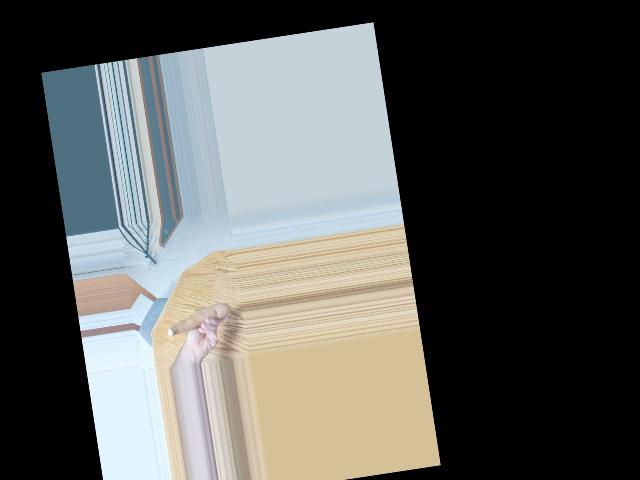sweet_potato: (162, 298, 230, 338)
